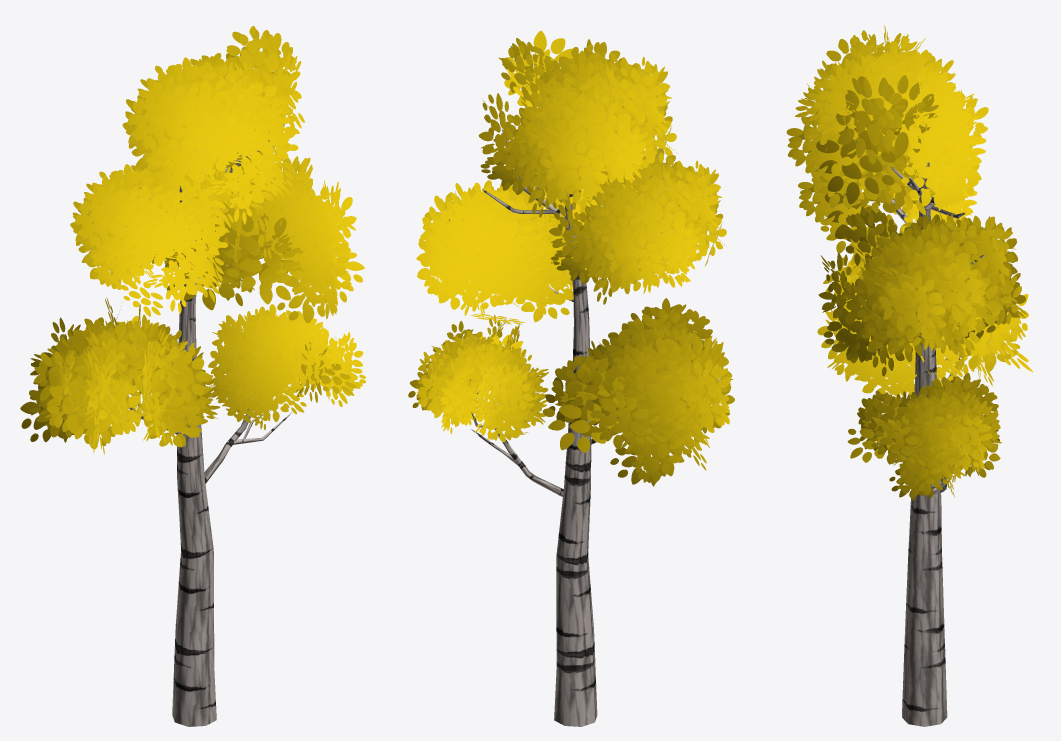
Rendered from birch_1.glb.
3 views of the same model, side by side, from view 1: azimuth 30°, elevation 25°; view 2: azimuth 150°, elevation 25°; view 3: azimuth 270°, elevation 25° (orthographic). The views are drawn at different scales.
Parts seen in each view (by area): view 1: BirchTree_1; view 2: BirchTree_1; view 3: BirchTree_1.
Boxes of the visible parts, <box> form: BirchTree_1: <box>20,26,365,726</box>; BirchTree_1: <box>408,31,734,726</box>; BirchTree_1: <box>786,25,1032,726</box>.
Bounding box in the file's own units: 2.71 × 5.45 × 1.94.
2 materials, 2 textured.
